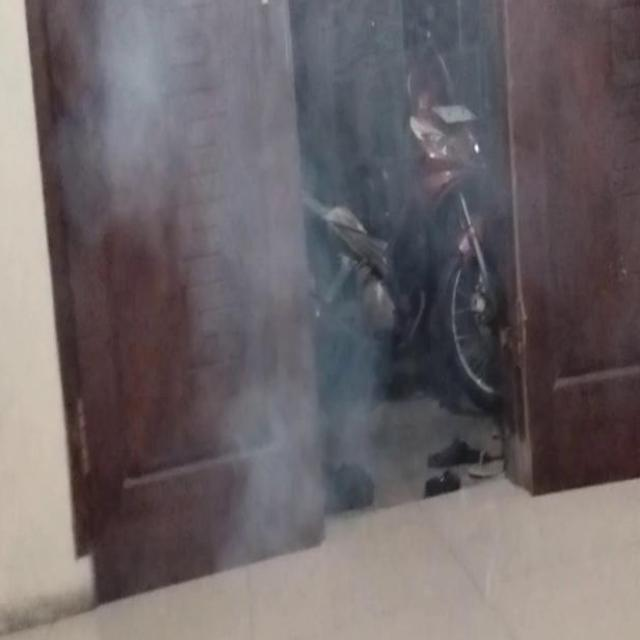fire: (108, 0, 354, 549)
